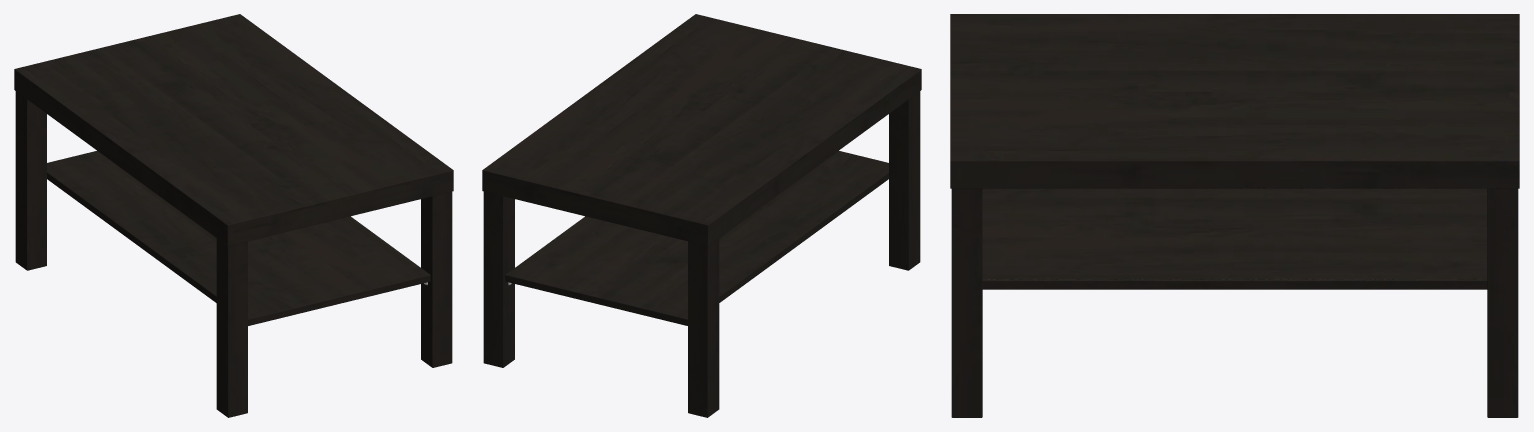
3 renders of one model, left to right at view 1: azimuth 30°, elevation 25°; view 2: azimuth 150°, elevation 25°; view 3: azimuth 270°, elevation 25°, orthographic. The views are drawn at different scales.
Visible parts, largest first — view 1: Mesh_0; view 2: Mesh_0; view 3: Mesh_0.
Part boxes in pixels (x1,y1,x2,y2): Mesh_0: (14,14,453,417); Mesh_0: (482,14,921,417); Mesh_0: (950,14,1519,417).
Bounding box in the file's own units: 0.55 × 0.4501 × 0.9.
Materials: 1 (1 with a texture image).
